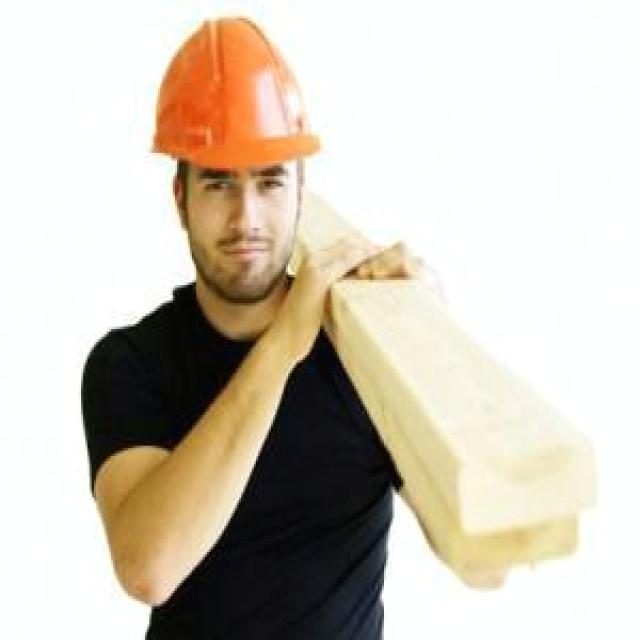face_nomask: (196, 161, 299, 290)
hand_noglove: (280, 230, 369, 376)
head_helmet: (126, 8, 337, 158)
person: (102, 2, 397, 638)
